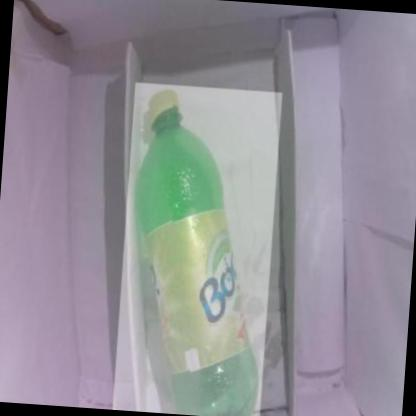plastic_bottles: (113, 82, 283, 416)
